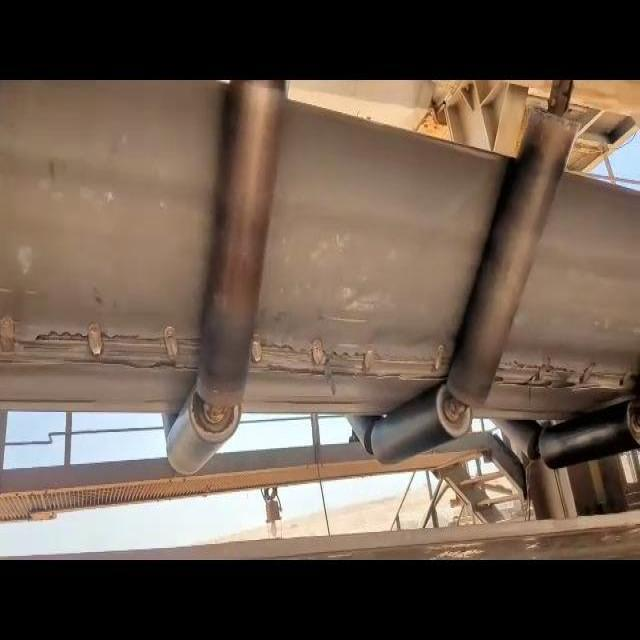Tear: (0, 306, 213, 376), (244, 328, 458, 386), (492, 347, 640, 402)
